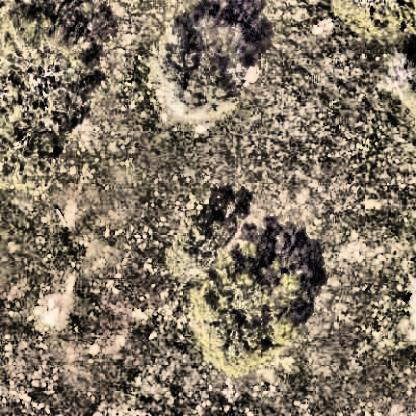tree-top: (184, 250, 330, 377), (145, 6, 272, 122), (1, 8, 100, 155), (167, 207, 247, 275), (330, 1, 416, 46)
